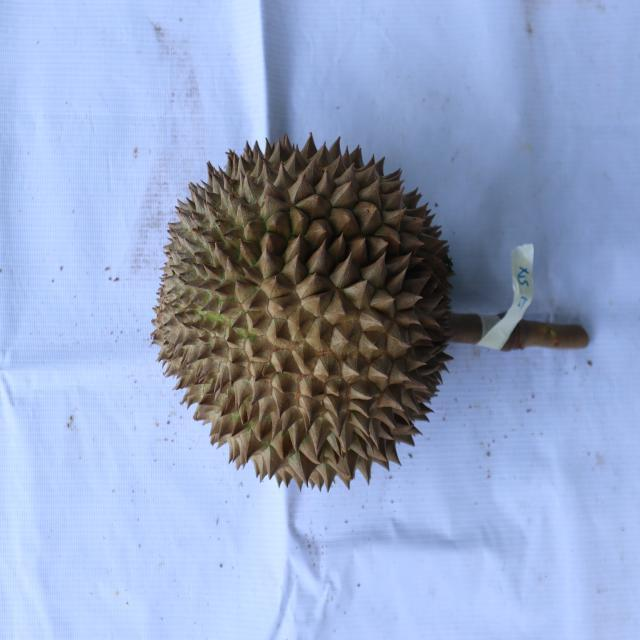mature: (152, 135, 456, 489)
